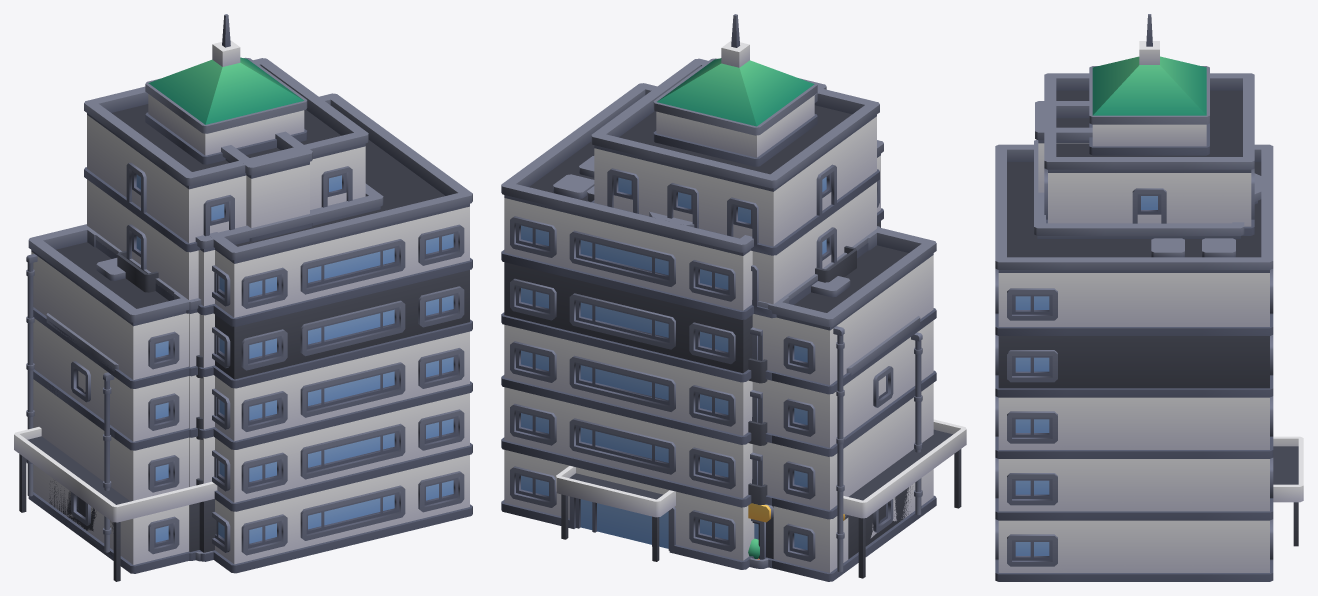
Rendered from city-commercial.glb.
3 views of the same model, side by side, from view 1: azimuth 30°, elevation 25°; view 2: azimuth 150°, elevation 25°; view 3: azimuth 270°, elevation 25° (orthographic).
Visible parts, largest first — view 1: building-n, building-j, building-m, building-l, building-k, building-i; view 2: building-n, building-m, building-j, building-k, building-i, building-l; view 3: building-n, building-m, building-l.
Part boxes in pixels (x1,y1,x2,y2): building-n: (14, 93, 472, 581); building-j: (26, 224, 212, 573); building-m: (84, 14, 368, 429); building-l: (117, 183, 383, 561); building-k: (46, 313, 118, 560); building-i: (96, 235, 201, 560); building-n: (501, 78, 966, 578); building-m: (591, 14, 879, 568); building-j: (748, 227, 936, 581); building-k: (843, 316, 922, 567); building-i: (748, 226, 879, 559); building-l: (587, 186, 856, 282); building-n: (995, 101, 1303, 581); building-m: (1044, 14, 1254, 235); building-l: (1034, 139, 1261, 238).
Size of the model in its own units: 2.32 by 3.15 by 1.82.
1 material, 1 textured.
